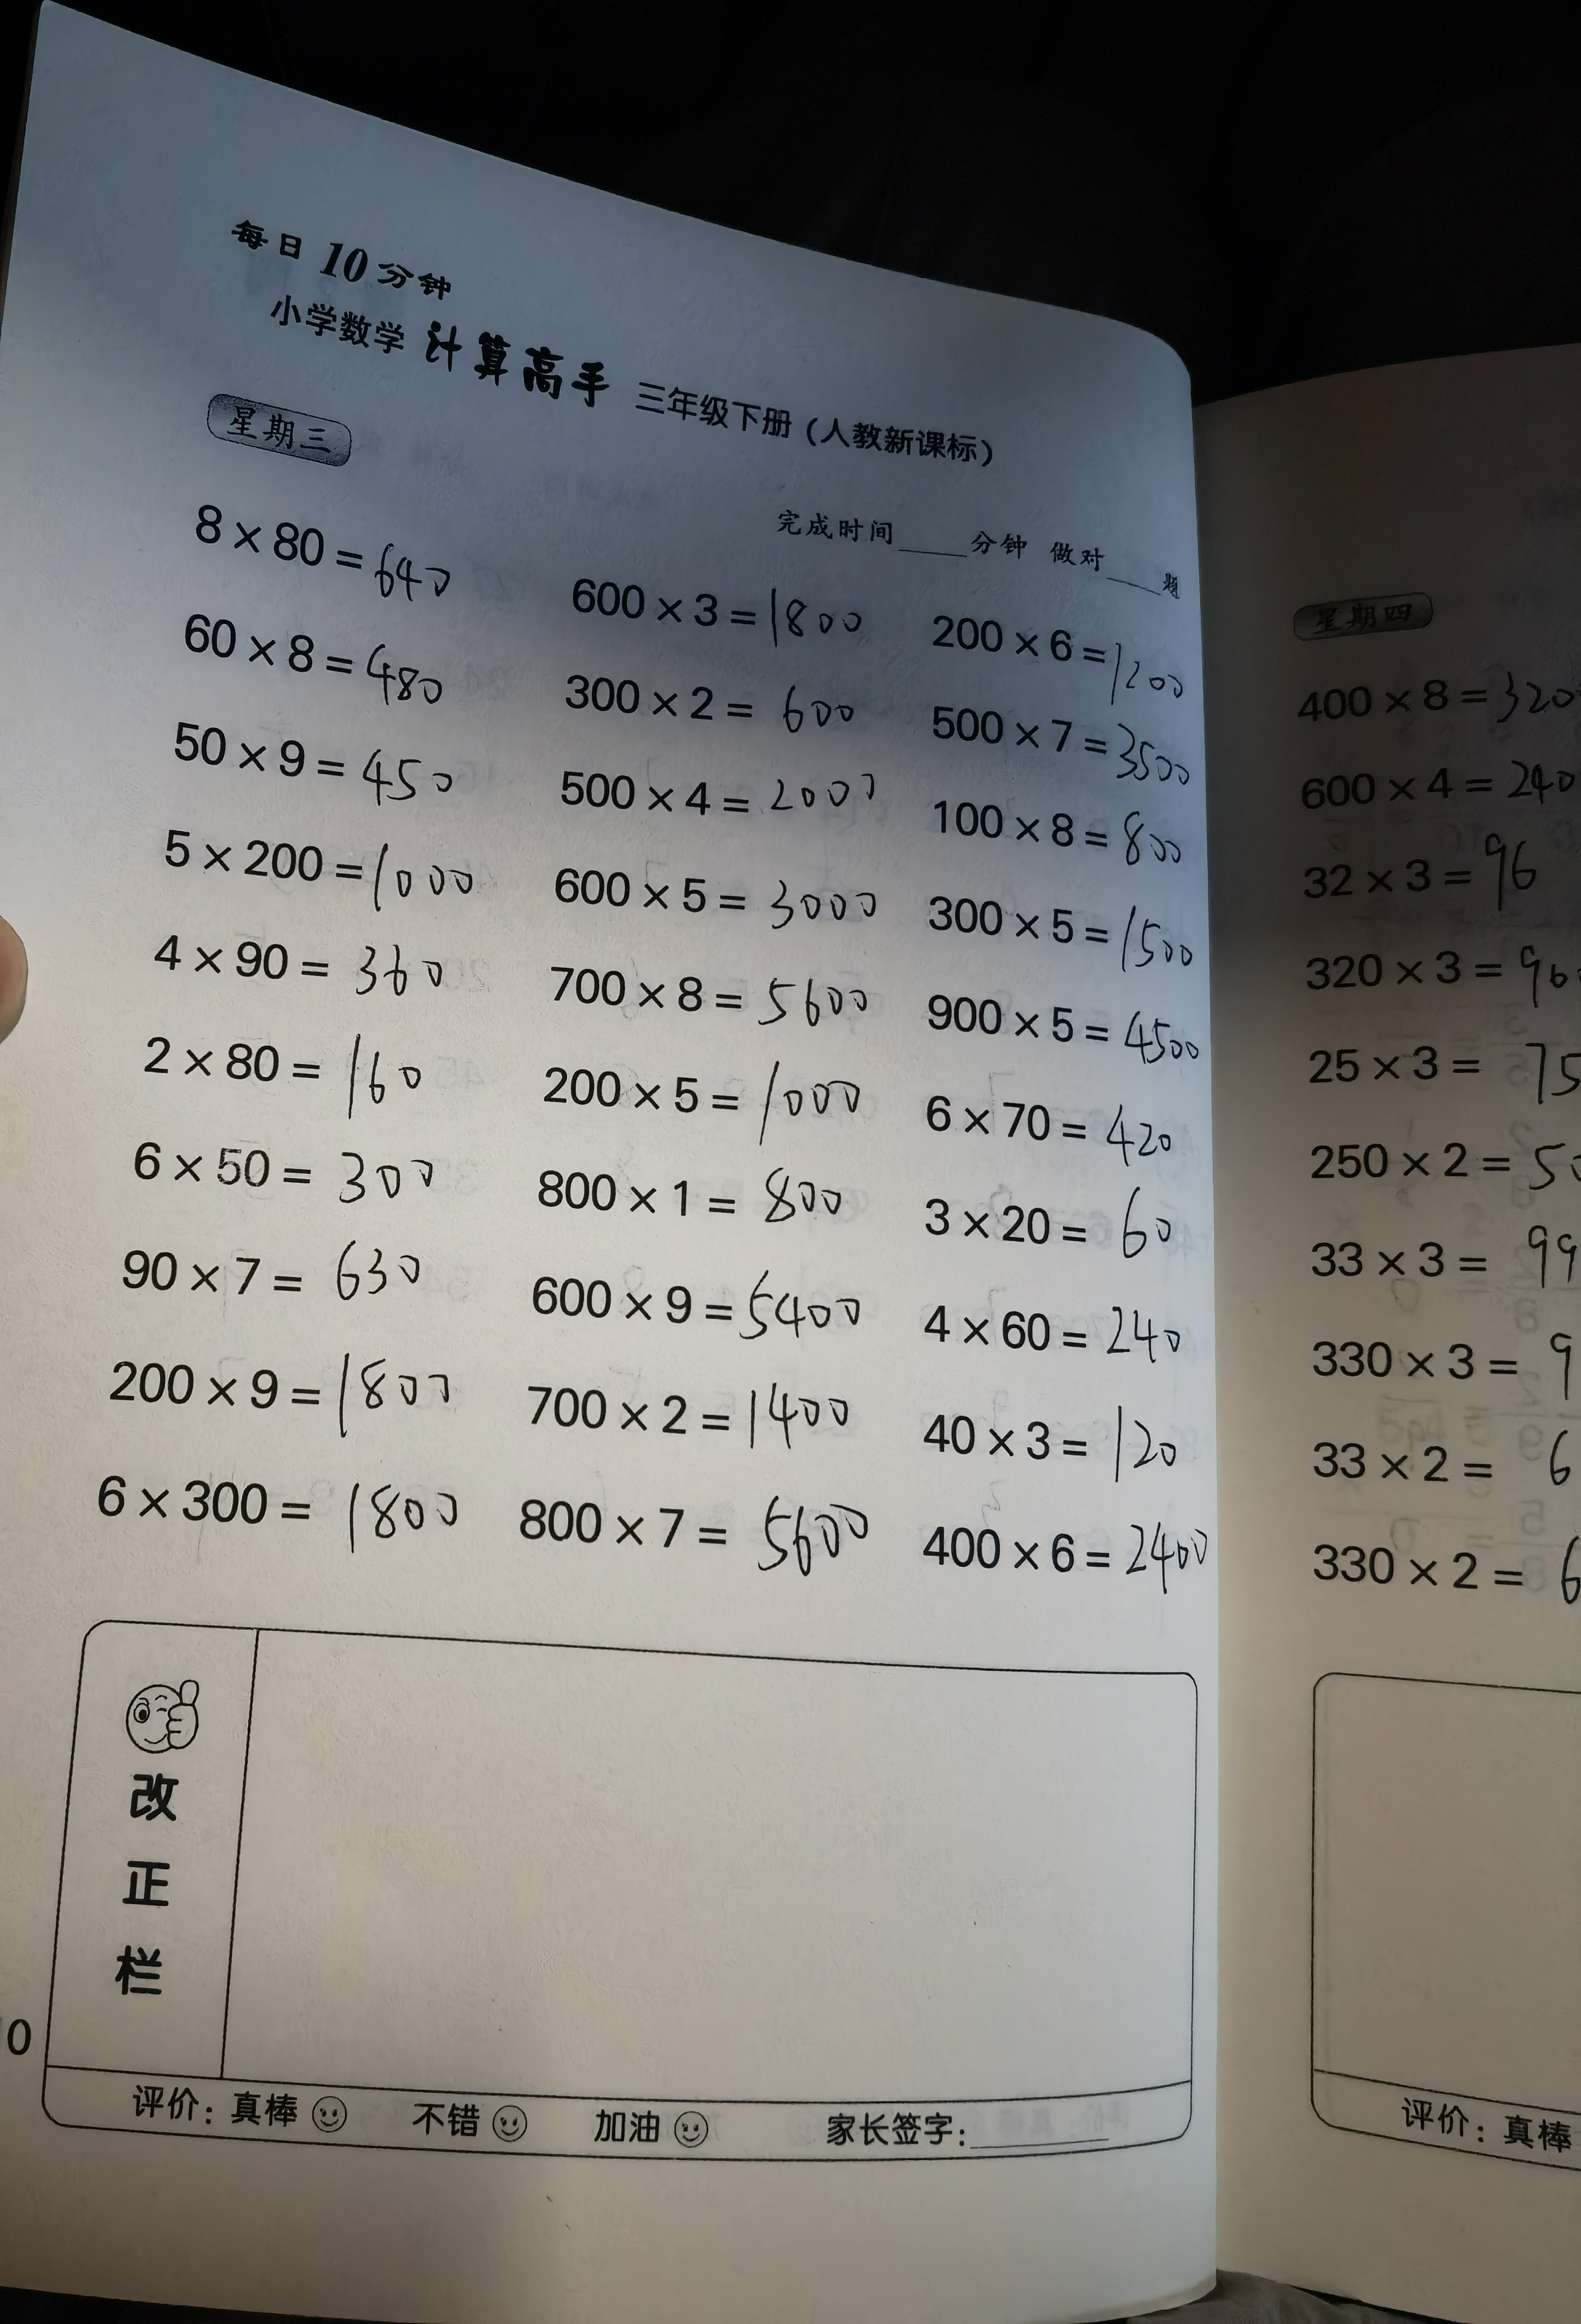equation: (76, 1461, 483, 1572), (192, 466, 494, 605), (169, 589, 468, 722), (510, 1479, 889, 1581), (565, 551, 880, 669), (95, 1346, 453, 1447), (512, 1262, 875, 1359), (510, 1156, 865, 1251), (152, 723, 476, 824), (916, 1505, 1228, 1608), (104, 1124, 443, 1218), (545, 852, 893, 942), (162, 822, 480, 919), (535, 1055, 875, 1145), (101, 1232, 446, 1316), (916, 1087, 1212, 1186), (916, 1392, 1216, 1489), (154, 926, 471, 1015), (513, 1380, 875, 1456), (134, 1034, 452, 1119), (545, 958, 884, 1038), (928, 695, 1205, 792), (919, 992, 1205, 1083), (926, 891, 1202, 979), (558, 672, 886, 745), (558, 761, 902, 828), (926, 794, 1210, 875), (928, 600, 1195, 685), (916, 1193, 1186, 1265), (919, 1299, 1182, 1373)
